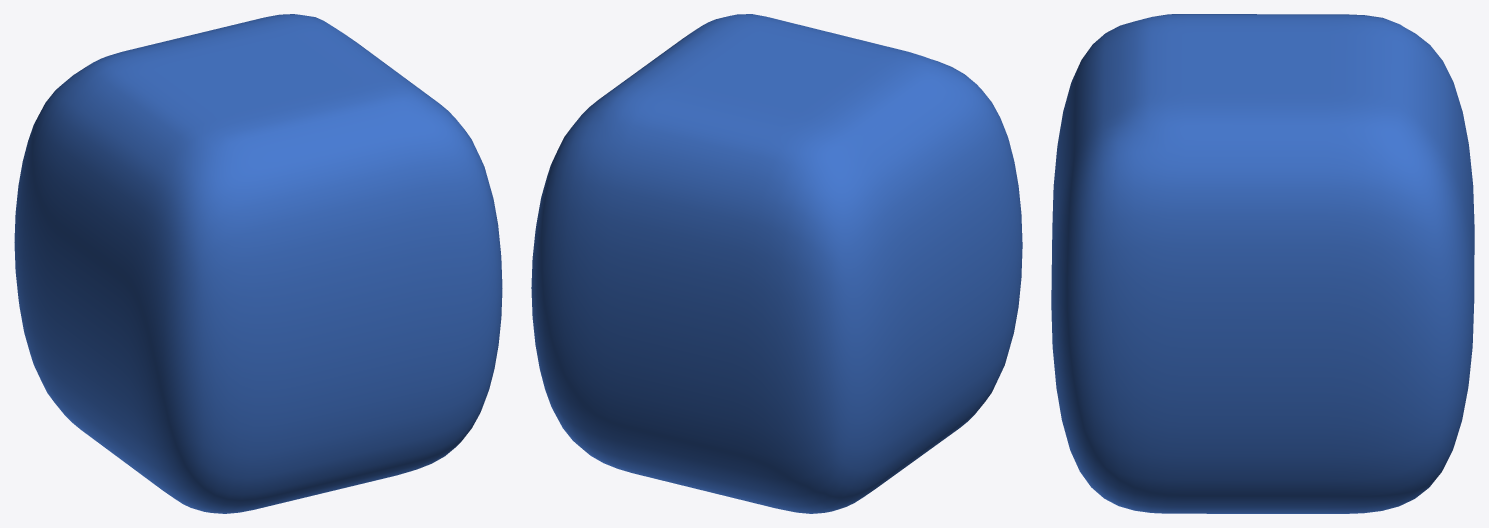
File: blue_body_detach.fbx
3 views of the same model, side by side, from view 1: azimuth 30°, elevation 25°; view 2: azimuth 150°, elevation 25°; view 3: azimuth 270°, elevation 25° (orthographic). The views are drawn at different scales.
Visible parts, largest first — view 1: blue_body_detach; view 2: blue_body_detach; view 3: blue_body_detach.
Boxes of the visible parts, x1,y1,x2,y2 form: blue_body_detach: (14,14,502,513); blue_body_detach: (531,14,1022,513); blue_body_detach: (1051,14,1474,513).
Size of the model in its own units: 0.9746 by 1.01 by 0.9751.
1 material, 1 textured.
